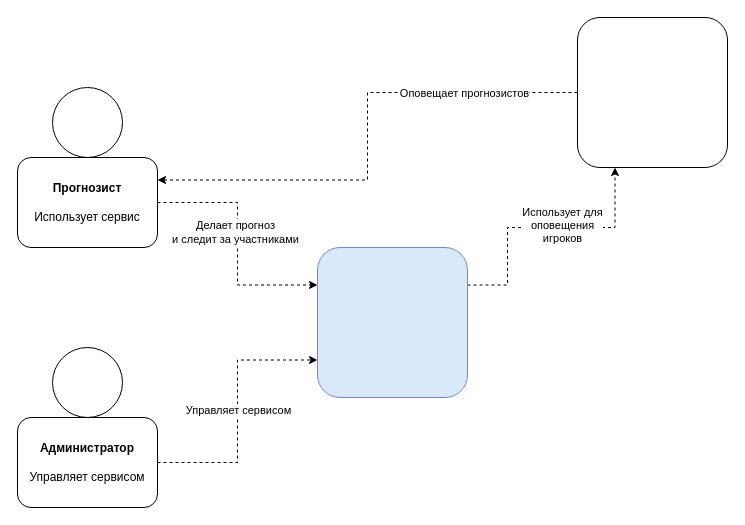
Image size: 745x525. Some labels were removed from this diagram. Here are the shapes that lost their labels. From the top down, the centre of each, then its label:
the point at 652,92: Mail Система почтовой рассылки
the point at 392,322: Сервис турнира прогнозистов
